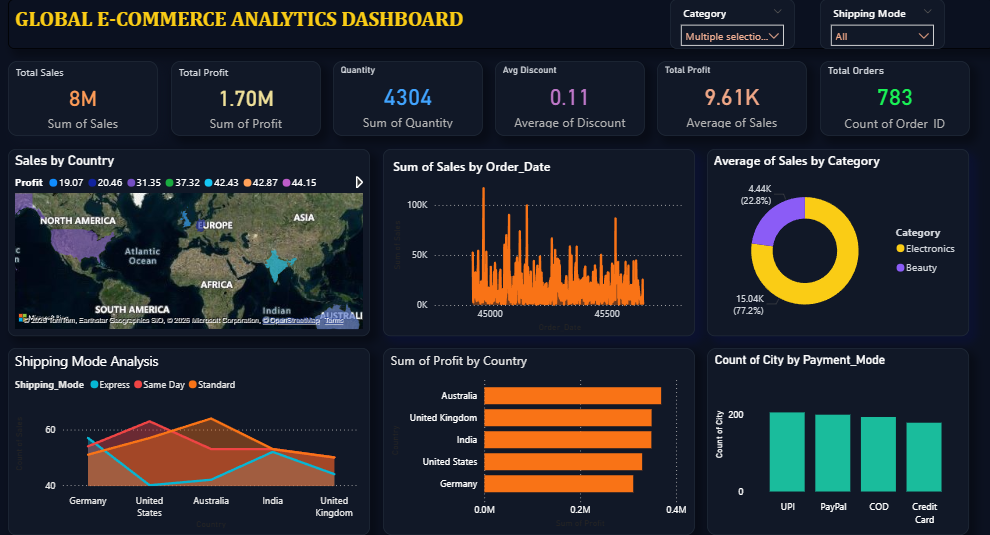

The dashboard page shown, as its layout file describes it:
{"tool":"powerbi","page":{"name":"Page 1","canvas":[1280,720],"ordinal":0},"visuals":[{"type":"textbox","box":[16,0,1264,64],"z":0},{"type":"card","title":"Total Sales","fields":{"Values":["Sum(Sales_Data.Sales)"]},"box":[16,80,192,96],"z":1000},{"type":"card","title":"Total Profit","fields":{"Values":["Sum(Sales_Data.Profit)"]},"box":[224,80,192,96],"z":2000},{"type":"card","title":"Total Profit","fields":{"Values":["Sum(Sales_Data.Profit)"]},"box":[848,80,192,96],"z":3000},{"type":"card","title":"Avg Discount","fields":{"Values":["Avg(Sales_Data.Discount)"]},"box":[640,80,192,96],"z":4000},{"type":"card","title":"Total Orders","fields":{"Values":["CountNonNull(Sales_Data.Order_ID)"]},"box":[1056,80,192,96],"z":5000},{"type":"card","title":"Quantity","fields":{"Values":["Sum(Sales_Data.Quantity)"]},"box":[432,80,192,96],"z":6000},{"type":"lineChart","fields":{"Category":["Sales_Data.Order_Date"],"Y":["Sum(Sales_Data.Sales)"]},"box":[496,192,400,240],"z":7000},{"type":"donutChart","fields":{"Category":["Sales_Data.Category"],"Y":["Avg(Sales_Data.Sales)"]},"box":[912,192,336,240],"z":8000},{"type":"areaChart","title":"Shipping Mode Analysis","fields":{"Y":["CountNonNull(Sales_Data.Sales)"],"Category":["Sales_Data.Country"],"Series":["Sales_Data.Shipping_Mode"]},"box":[16,448,464,240],"z":9000},{"type":"barChart","fields":{"Category":["Sales_Data.Country"],"Y":["Sum(Sales_Data.Profit)"]},"box":[496,448,400,240],"z":10000},{"type":"slicer","fields":{"Values":["Sales_Data.Category"]},"box":[864,0,160,64],"z":11000},{"type":"slicer","fields":{"Values":["Sales_Data.Shipping_Mode"]},"box":[1056,0,160,64],"z":12000},{"type":"lineStackedColumnComboChart","fields":{"Category":["Sales_Data.Payment_Mode"],"Y":["CountNonNull(Sales_Data.City)"]},"box":[912,448,336,240],"z":13000},{"type":"filledMap","title":"Sales by Country","fields":{"Category":["Sales_Data.Country"],"Series":["Sales_Data.Profit"]},"box":[16,192,464,240],"z":14000}]}

Visuals, with their boxes on the page's 1280x720 design canvas (x1, y1, x2, y2). These are canvas units, not pixel positions in the 990x535 screenshot, which may show the page scaled, cropped or inside an application window:
textbox: locate(16, 0, 1280, 64)
"Total Sales" card: locate(16, 80, 208, 176)
"Total Profit" card: locate(224, 80, 416, 176)
"Total Profit" card: locate(848, 80, 1040, 176)
"Avg Discount" card: locate(640, 80, 832, 176)
"Total Orders" card: locate(1056, 80, 1248, 176)
"Quantity" card: locate(432, 80, 624, 176)
lineChart - Sales_Data.Order_Date x Sum(Sales_Data.Sales): locate(496, 192, 896, 432)
donutChart - Sales_Data.Category x Avg(Sales_Data.Sales): locate(912, 192, 1248, 432)
"Shipping Mode Analysis" areaChart: locate(16, 448, 480, 688)
barChart - Sales_Data.Country x Sum(Sales_Data.Profit): locate(496, 448, 896, 688)
slicer - Sales_Data.Category: locate(864, 0, 1024, 64)
slicer - Sales_Data.Shipping_Mode: locate(1056, 0, 1216, 64)
lineStackedColumnComboChart - Sales_Data.Payment_Mode x CountNonNull(Sales_Data.City): locate(912, 448, 1248, 688)
"Sales by Country" filledMap: locate(16, 192, 480, 432)
